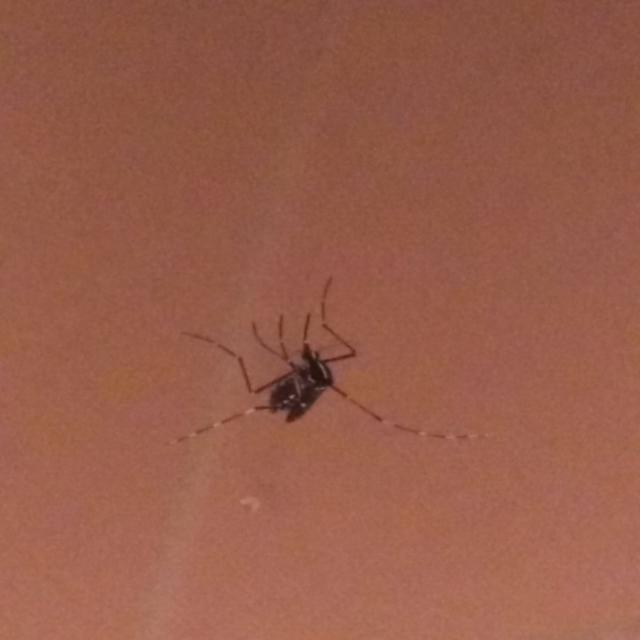albopictus: (166, 271, 492, 463)
